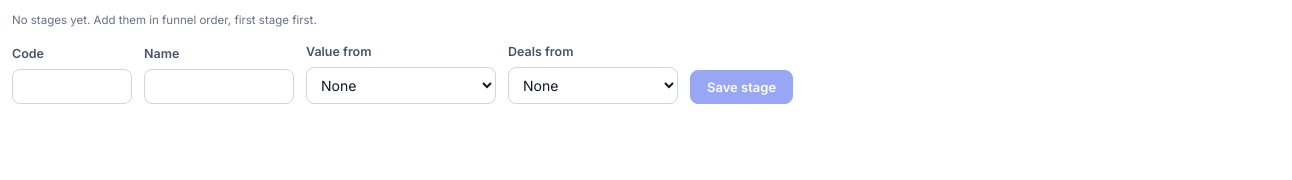
Test: pipeline stages › offers only count metrics for deals, and saves once a stage has a metric
The width and height of the screenshot is (1292, 180).
Type "proposal" into the field labelled "Code" at (72,86), box left=12, top=69, right=132, bottom=104
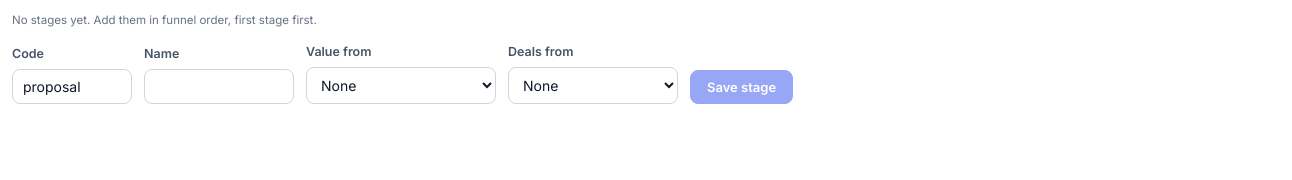
Type "Proposals" into the field labelled "Name" at (219,86), box left=144, top=69, right=294, bottom=104
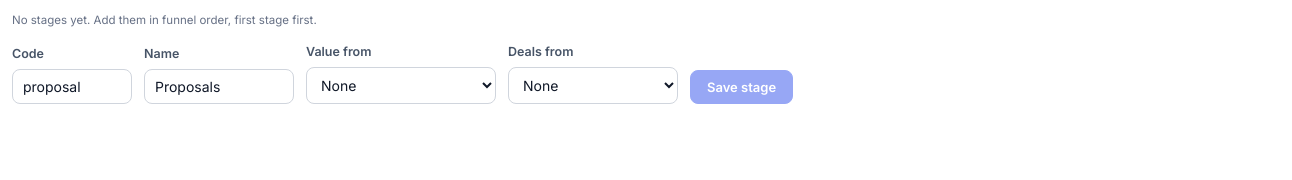
Select "Proposals, deals" in the dropdown labelled "Deals from" at (593,85), box left=508, top=67, right=678, bottom=104
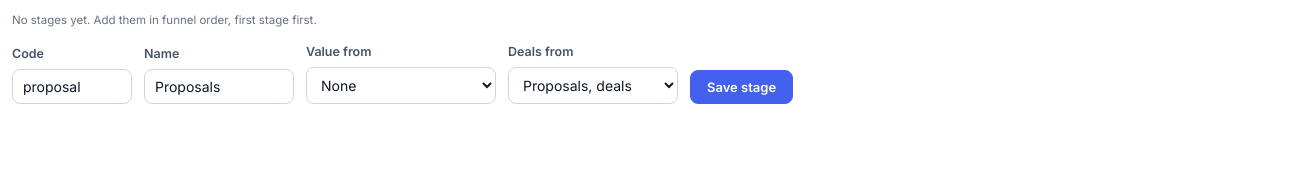
Click the button "Save stage" at (742,87), box left=690, top=70, right=793, bottom=104
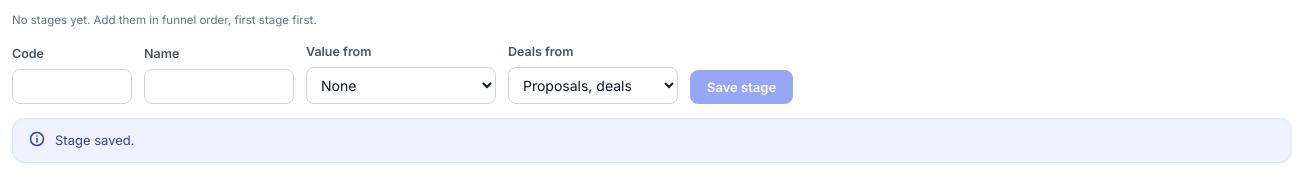
Expected: the text "Stage saved." is shown, left=55, top=132, right=134, bottom=148
